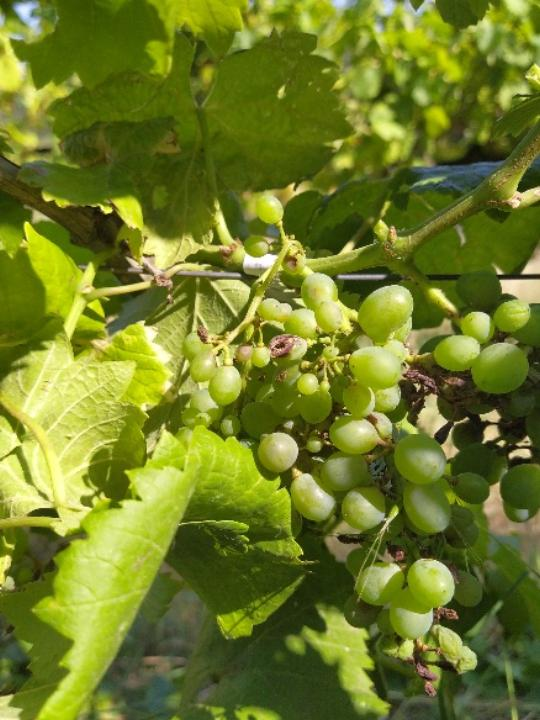grape: (181, 193, 491, 700), (428, 269, 540, 529)
